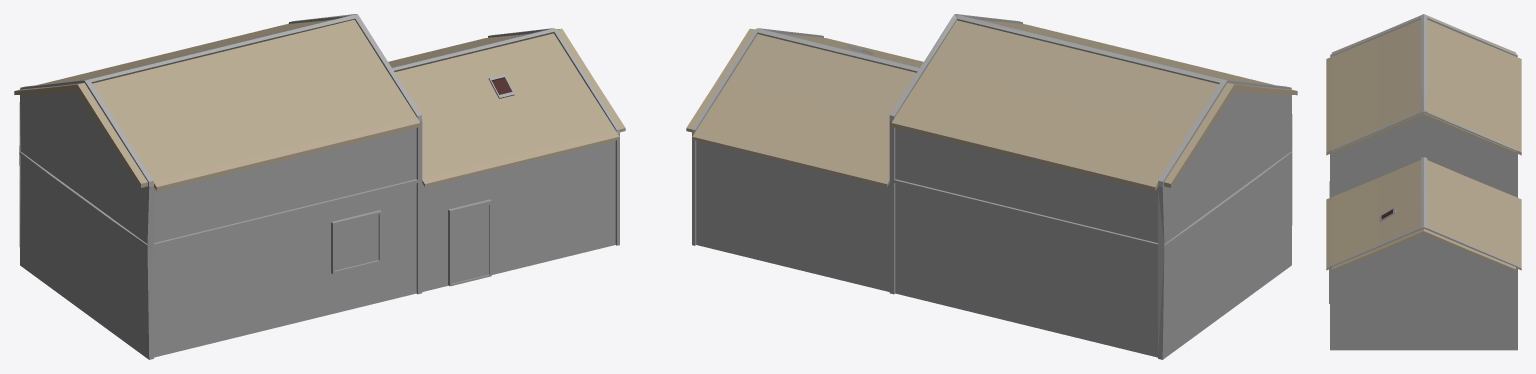
3 views of the same model, side by side, from view 1: azimuth 30°, elevation 25°; view 2: azimuth 150°, elevation 25°; view 3: azimuth 270°, elevation 25° (orthographic). The views are drawn at different scales.
Parts seen in each view (by area): view 1: pCube31, pCube33, pCube32; view 2: pCube31; view 3: pCube31.
Boxes of the visible parts, left/top/right/bottom form: pCube31: left=14, top=14, right=625, bottom=359; pCube33: left=448, top=199, right=491, bottom=286; pCube32: left=331, top=210, right=381, bottom=274; pCube31: left=686, top=14, right=1297, bottom=359; pCube31: left=1326, top=14, right=1521, bottom=350.
Size of the model in its own units: 1730 by 707 by 743.
